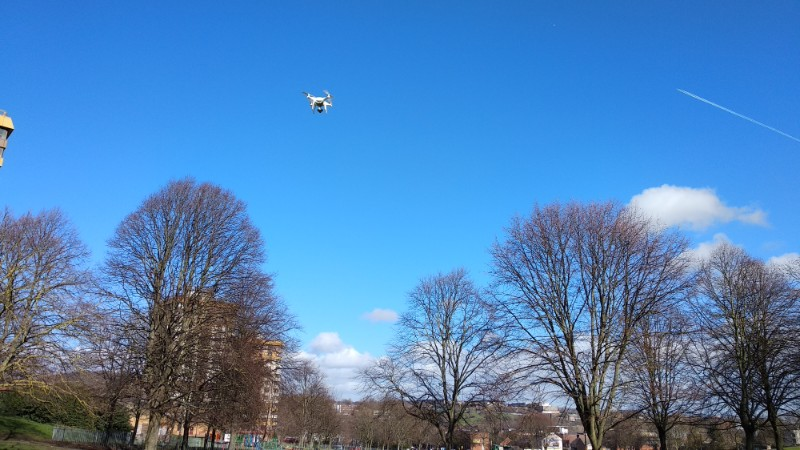drone: (303, 90, 338, 116)
